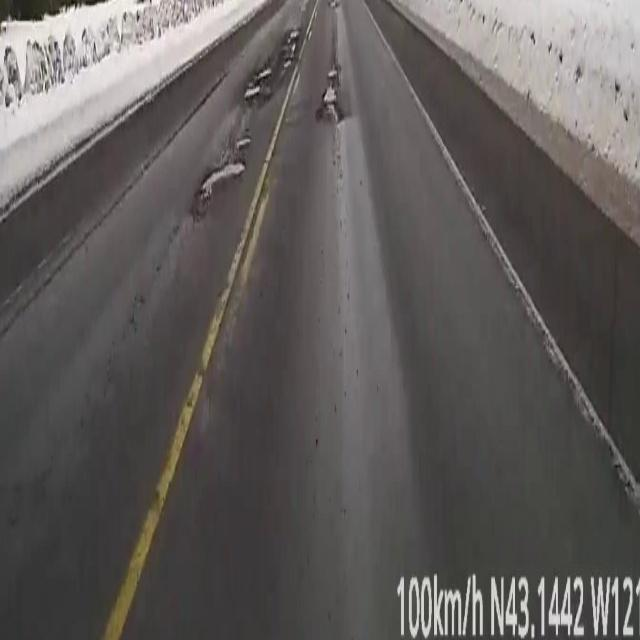pothole: (200, 157, 244, 202), (244, 64, 272, 96), (282, 27, 298, 72)
